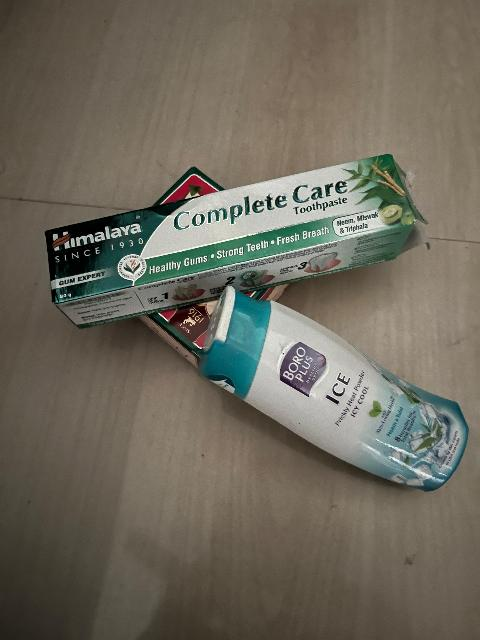boroplus: (214, 303, 466, 485)
himalaya toothpaste: (27, 150, 434, 304)
